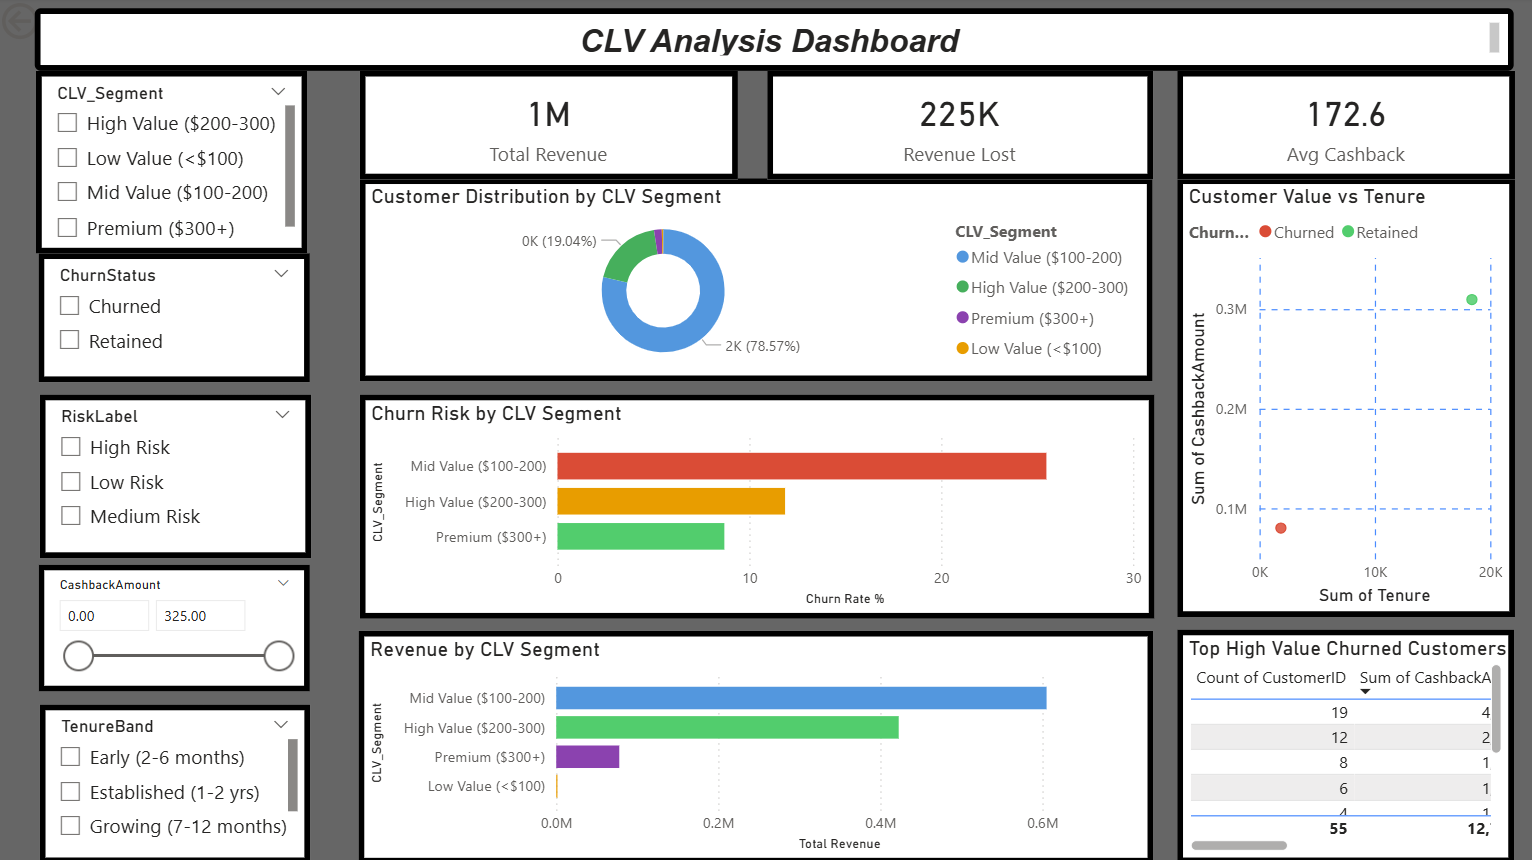

Layout of this report page (visuals, bound fields, positions):
{"tool":"powerbi","page":{"name":"CLV Analysis","canvas":[1280,720],"ordinal":2},"visuals":[{"type":"donutChart","title":"Customer Distribution by CLV Segment","fields":{"Category":["ecommerce.CLV_Segment"],"Y":["ecommerce.Total Customers"]},"box":[302.3,151.2,659.3,168.6],"z":0},{"type":"barChart","title":"Churn Risk by CLV Segment","fields":{"Category":["ecommerce.CLV_Segment"],"Y":["ecommerce.Churn Rate %"]},"box":[302.6,330.2,660.4,186.1],"z":1000},{"type":"barChart","title":"Revenue by CLV Segment","fields":{"Category":["ecommerce.CLV_Segment"],"Y":["ecommerce.Total Revenue"]},"box":[301.4,527.1,660.4,193.3],"z":2000},{"type":"scatterChart","title":"Customer Value vs Tenure","fields":{"X":["Sum(ecommerce.Tenure)"],"Y":["Sum(ecommerce.CashbackAmount)"],"Series":["ecommerce.ChurnStatus"]},"box":[982.1,150.7,280.6,364.8],"z":3000},{"type":"tableEx","title":"Top High Value Churned Customers","fields":{"Values":["CountNonNull(ecommerce.CustomerID)","Sum(ecommerce.CashbackAmount)","Sum(ecommerce.OrderCount)","Sum(ecommerce.EstimatedLTV)","ecommerce.MaritalStatus","ecommerce.PreferedOrderCat"]},"box":[982.2,525.9,279.8,194.5],"z":4000},{"type":"actionButton","box":[0,0,100,40],"z":5000},{"type":"card","fields":{"Values":["ecommerce.Total Revenue"]},"box":[302.6,61.2,314.6,90.1],"z":6000},{"type":"card","fields":{"Values":["ecommerce.Revenue Lost"]},"box":[641.2,61.2,320.6,90.1],"z":7000},{"type":"card","fields":{"Values":["ecommerce.Avg Cashback"]},"box":[982.2,61.2,281,90.1],"z":8000},{"type":"slicer","fields":{"Values":["ecommerce.CLV_Segment"]},"box":[33.4,61.2,225.4,151.7],"z":9000},{"type":"slicer","fields":{"Values":["ecommerce.ChurnStatus"]},"box":[34.8,212.5,225.7,106.9],"z":10000},{"type":"slicer","fields":{"Values":["ecommerce.RiskLabel"]},"box":[36,330.2,225.7,135.7],"z":11000},{"type":"textbox","box":[32.4,9.6,1229.6,51.6],"z":12000},{"type":"slicer","fields":{"Values":["ecommerce.CashbackAmount"]},"box":[34.8,471.9,225.7,105.7],"z":13000},{"type":"slicer","fields":{"Values":["ecommerce.TenureBand"]},"box":[36,588.4,224.5,132.1],"z":14000}]}

Visuals, with their boxes in screenshot pixels (x1, y1, x2, y2), scaled from the page's 1280x720 canvas onto the 1532x860 screenshot:
"Customer Distribution by CLV Segment" donutChart: locate(362, 181, 1151, 382)
"Churn Risk by CLV Segment" barChart: locate(362, 394, 1153, 617)
"Revenue by CLV Segment" barChart: locate(361, 630, 1151, 859)
"Customer Value vs Tenure" scatterChart: locate(1175, 180, 1511, 616)
"Top High Value Churned Customers" tableEx: locate(1176, 628, 1510, 859)
actionButton: locate(0, 0, 120, 48)
card - ecommerce.Total Revenue: locate(362, 73, 739, 181)
card - ecommerce.Revenue Lost: locate(767, 73, 1151, 181)
card - ecommerce.Avg Cashback: locate(1176, 73, 1512, 181)
slicer - ecommerce.CLV_Segment: locate(40, 73, 310, 254)
slicer - ecommerce.ChurnStatus: locate(42, 254, 312, 382)
slicer - ecommerce.RiskLabel: locate(43, 394, 313, 556)
textbox: locate(39, 11, 1510, 73)
slicer - ecommerce.CashbackAmount: locate(42, 564, 312, 690)
slicer - ecommerce.TenureBand: locate(43, 703, 312, 859)
